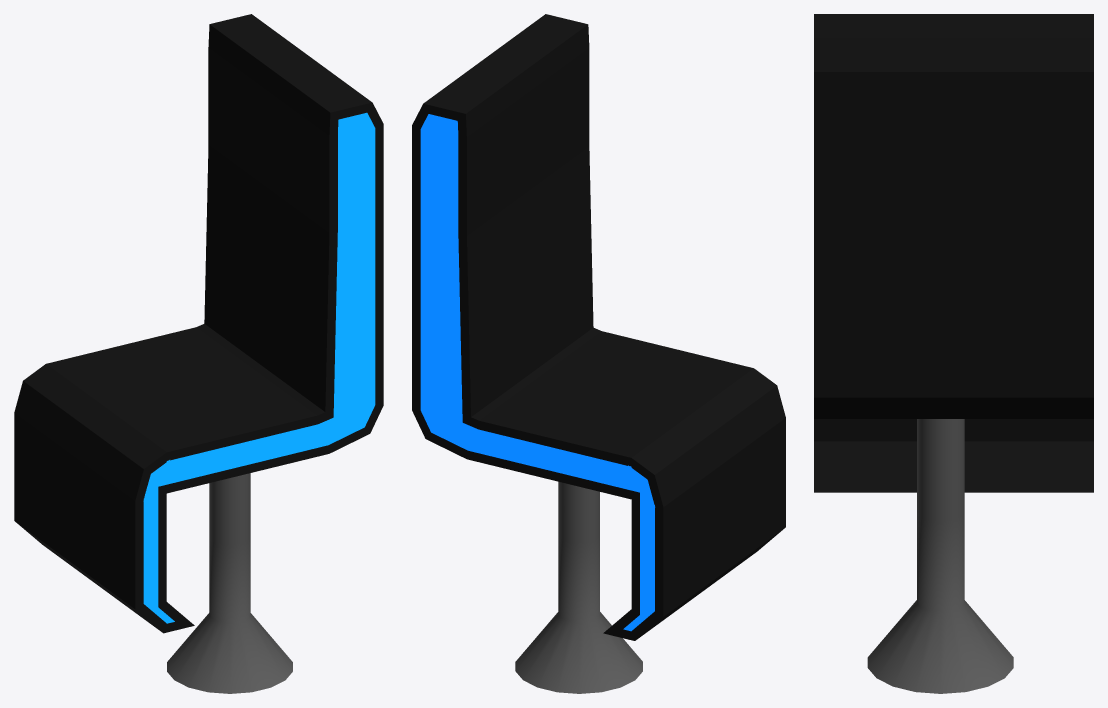
File: Chair.fbx
3 views of the same model, side by side, from view 1: azimuth 30°, elevation 25°; view 2: azimuth 150°, elevation 25°; view 3: azimuth 270°, elevation 25° (orthographic). The views are drawn at different scales.
Parts seen in each view (by area): view 1: Box013, Cylinder006; view 2: Box013, Cylinder006; view 3: Box013, Cylinder006.
Part boxes in pixels (bbox=[...]): Box013: bbox=[14, 14, 383, 633]; Cylinder006: bbox=[167, 473, 292, 693]; Box013: bbox=[412, 14, 785, 640]; Cylinder006: bbox=[515, 481, 642, 693]; Box013: bbox=[814, 14, 1093, 492]; Cylinder006: bbox=[867, 419, 1013, 693].
Bounding box in the file's own units: 4.26 × 9.55 × 3.59.
